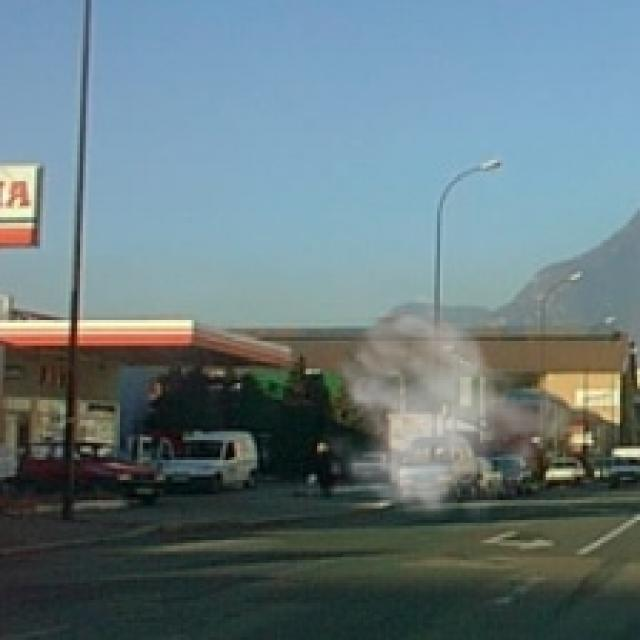Smoke: (312, 288, 582, 526)
